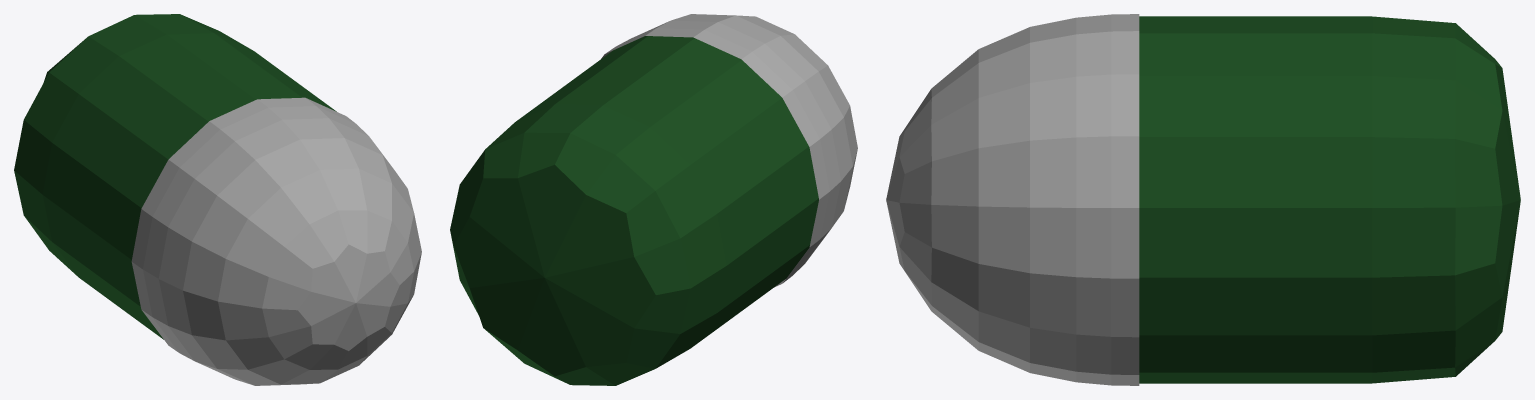
Rendered from missile_ammo.fbx.
The picture shows the model from 3 angles, left to right: view 1: azimuth 30°, elevation 25°; view 2: azimuth 150°, elevation 25°; view 3: azimuth 270°, elevation 25°; orthographic projection. The views are drawn at different scales.
Parts seen in each view (by area): view 1: Missile Ammo; view 2: Missile Ammo; view 3: Missile Ammo.
Boxes of the visible parts, x1,y1,x2,y2 form: Missile Ammo: [14, 14, 421, 385]; Missile Ammo: [450, 14, 857, 385]; Missile Ammo: [886, 14, 1520, 385].
Bounding box in the file's own units: 50.42 × 50.42 × 85.85.
